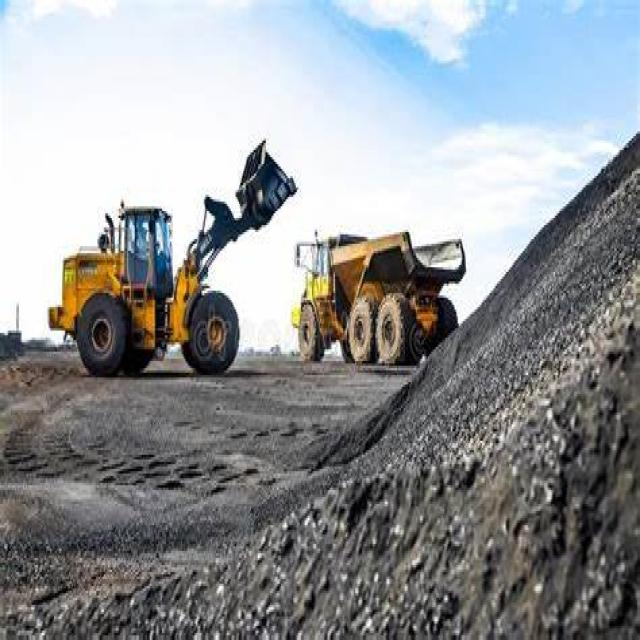buldozerpayloadergrader: (41, 129, 296, 406)
dump_truck: (282, 208, 466, 372)
